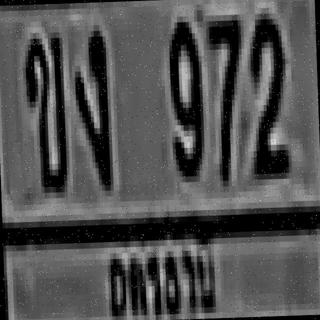A02: (22, 32, 67, 188)
A07: (70, 25, 110, 186)
N02: (246, 10, 286, 171)
N07: (205, 14, 243, 176)
N09: (165, 16, 202, 177)
P73: (93, 230, 226, 320)
